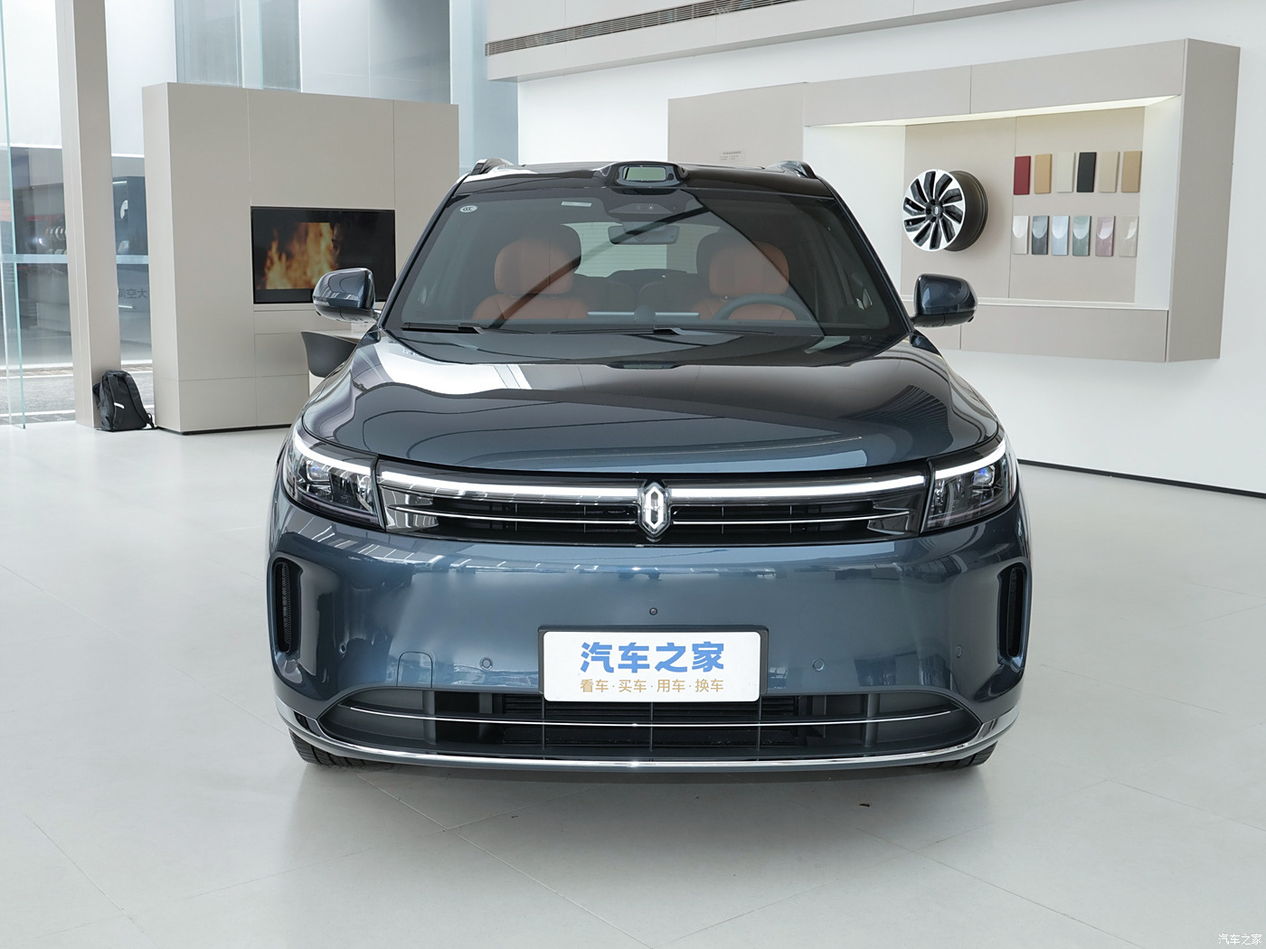AITO: (642, 483, 667, 533)
